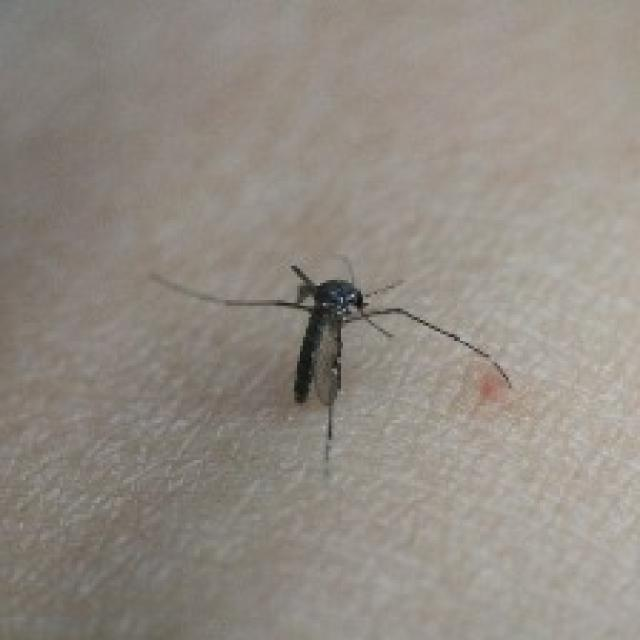aedes: (146, 251, 511, 463)
